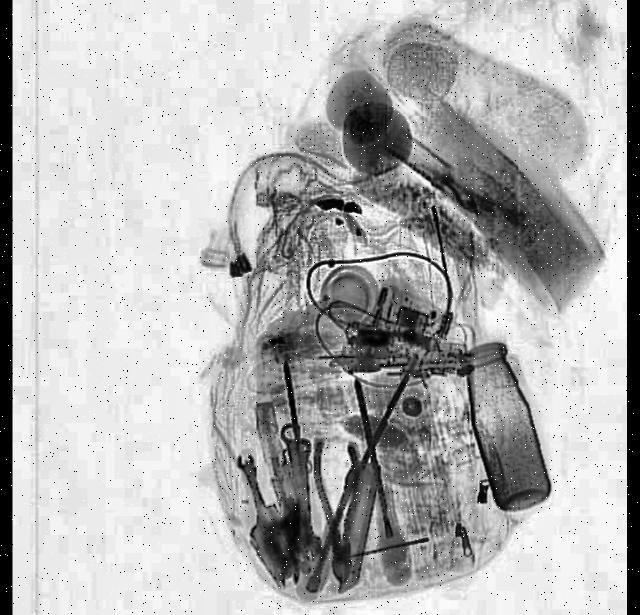Pliers: (310, 442, 366, 588)
Wrench: (232, 450, 270, 524)
